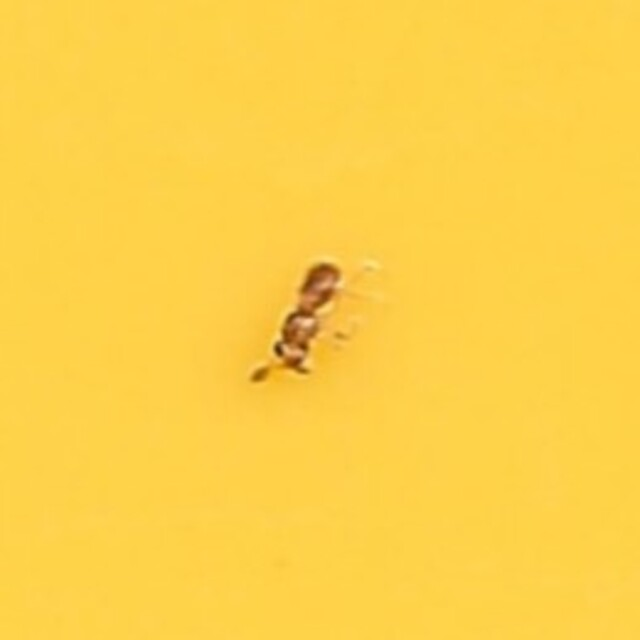Hymenoptera: (246, 253, 394, 387)
